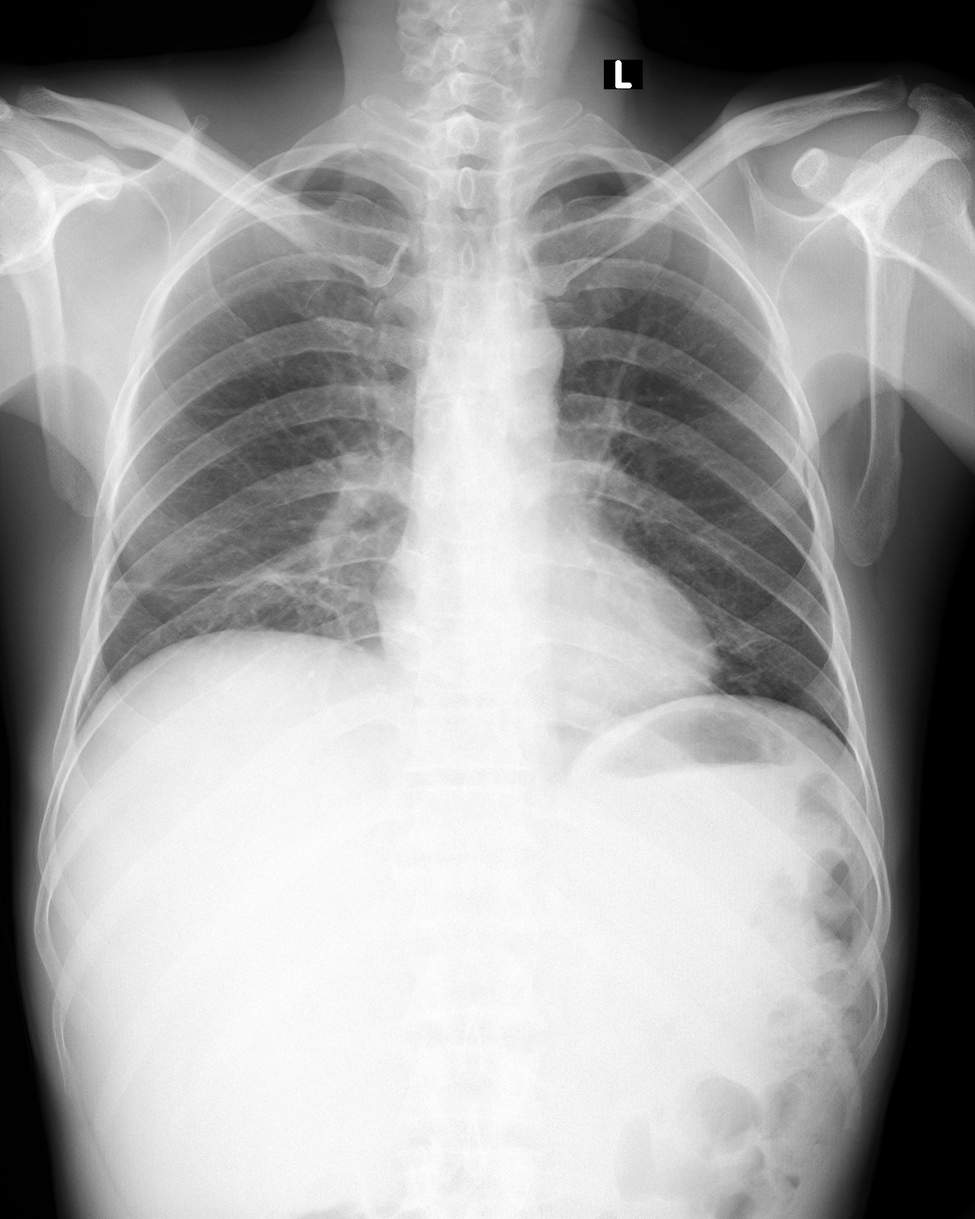Pulmonary fibrosis: (102, 566, 364, 601)
